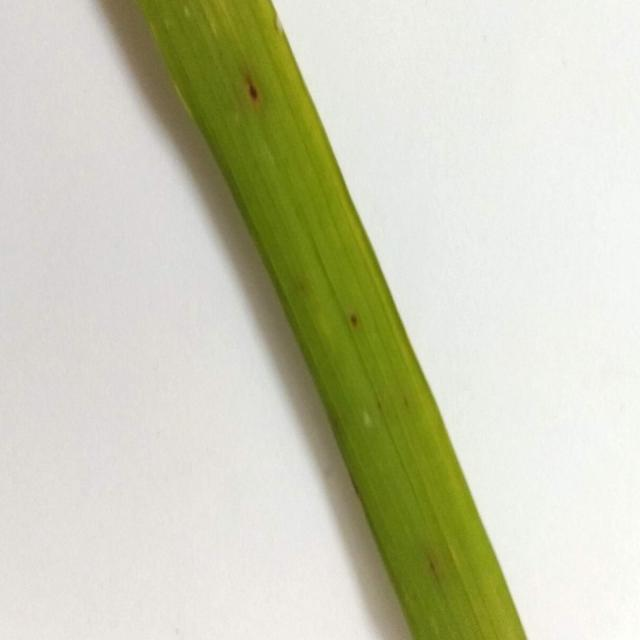Brown spot: (135, 0, 530, 638)
